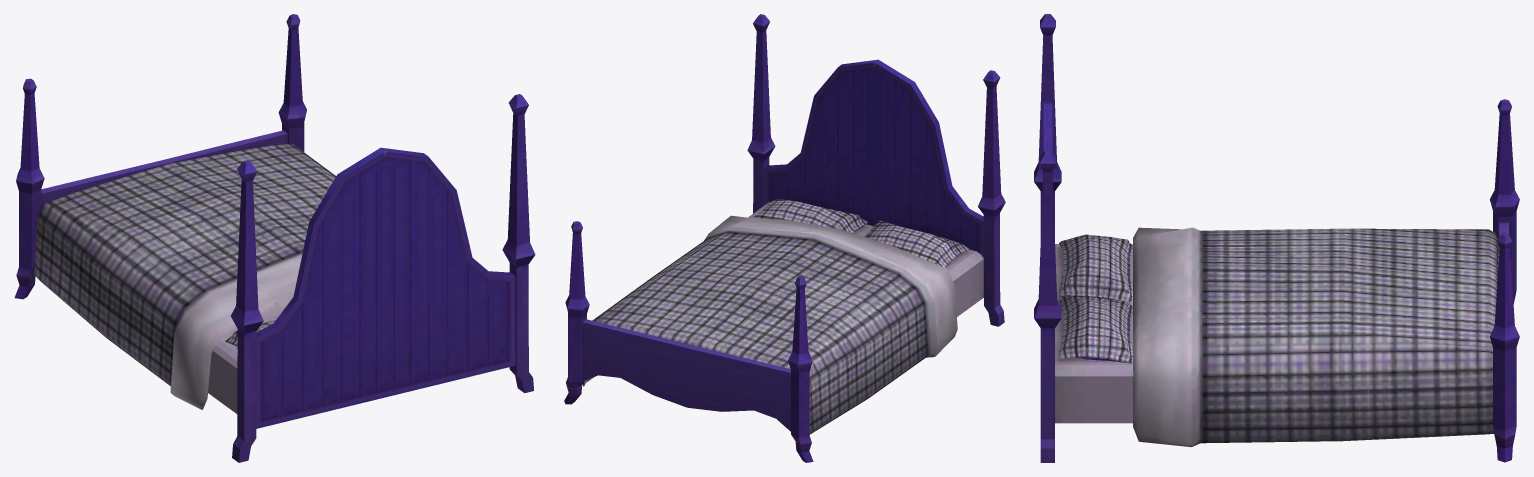
Rendered from furni_0200042_02.FBX.
The picture shows the model from 3 angles, left to right: view 1: azimuth 30°, elevation 25°; view 2: azimuth 150°, elevation 25°; view 3: azimuth 270°, elevation 25°; orthographic projection. The views are drawn at different scales.
Visible parts, largest first — view 1: furni_0200042_02; view 2: furni_0200042_02; view 3: furni_0200042_02.
Boxes of the visible parts, <box> form: furni_0200042_02: <box>14,14,535,462</box>; furni_0200042_02: <box>564,14,1005,462</box>; furni_0200042_02: <box>1034,14,1519,462</box>.
Size of the model in its own units: 170 by 163 by 236.
1 material, 1 textured.
